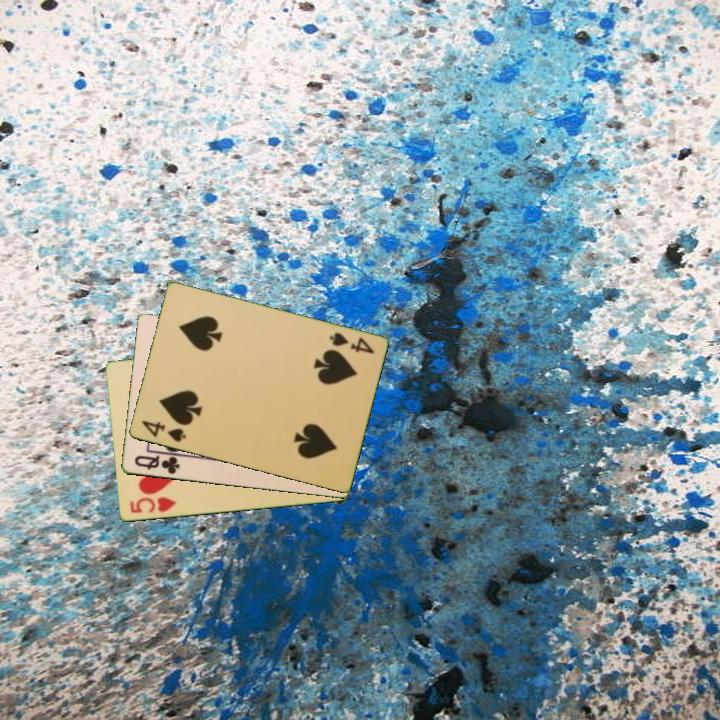4s: (137, 417, 189, 445), (326, 329, 377, 357)
5h: (126, 494, 179, 516)
Qc: (131, 452, 182, 477)
